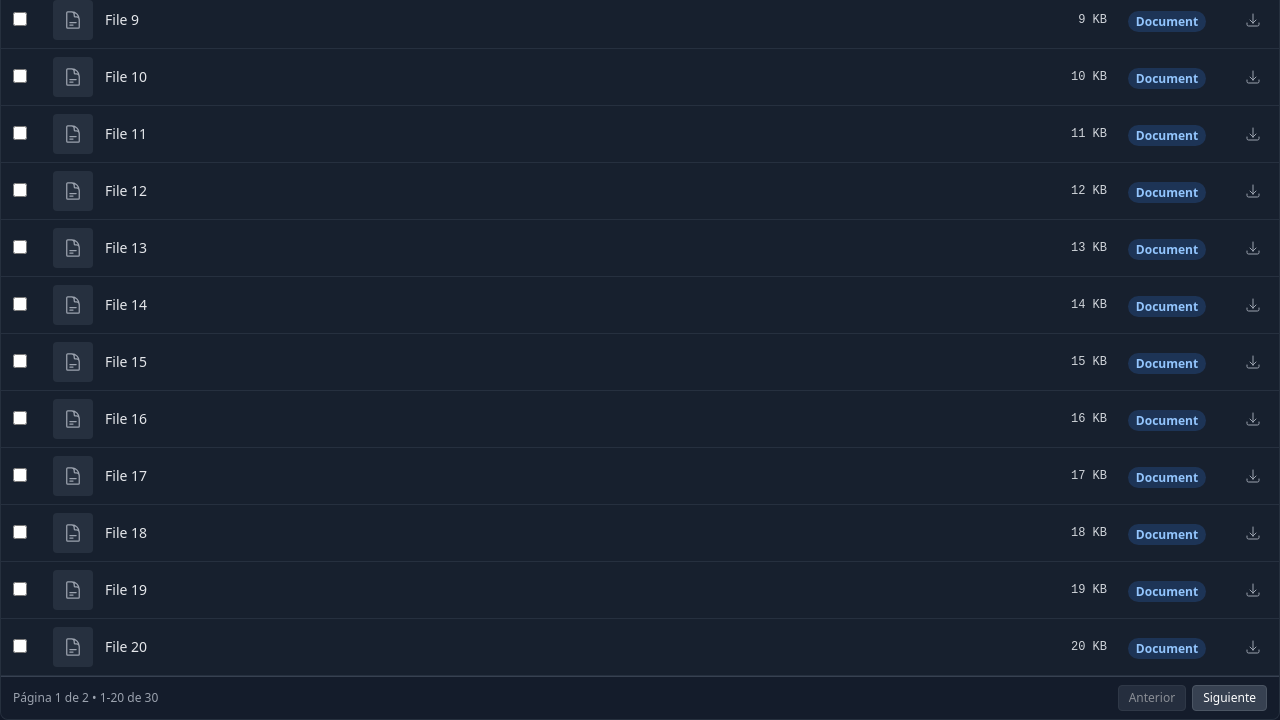
FileList › Pagination › should reset to page 1 when search changes
This screenshot has width=1280, height=720.
(page scrolled)
Click the button "Siguiente" at (1230, 698), box [1192, 685, 1267, 711]
(page scrolled)
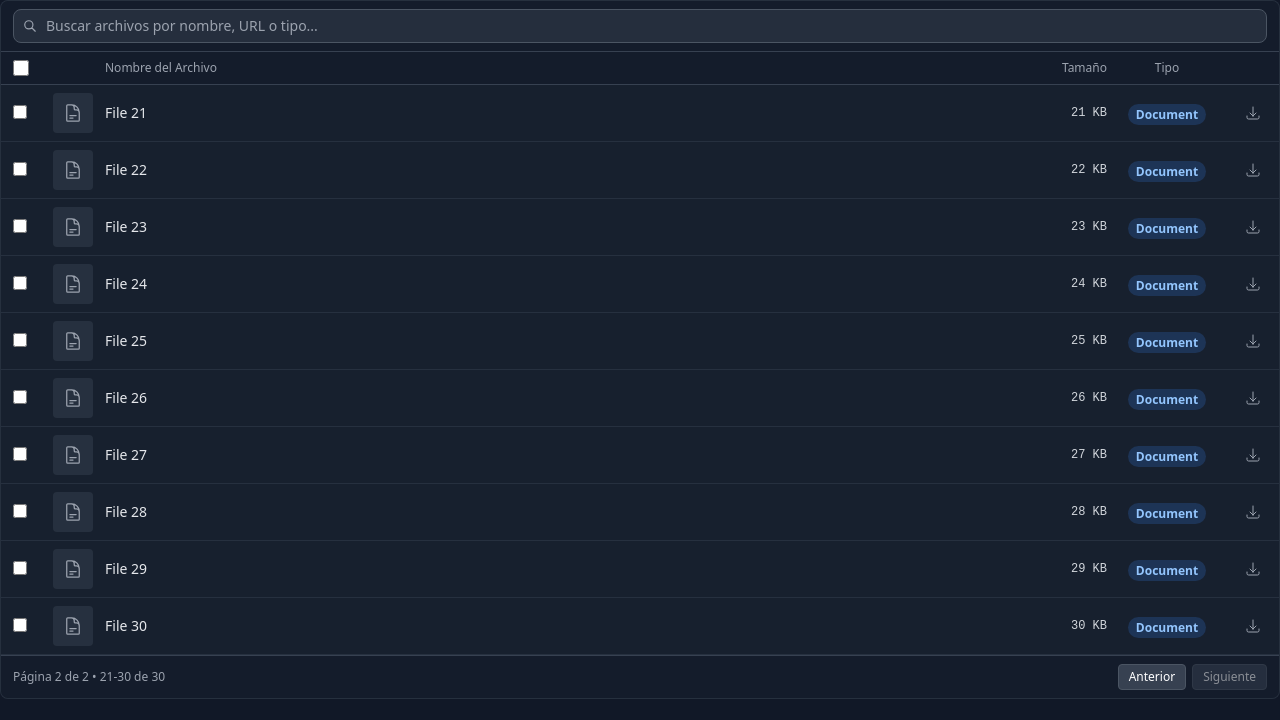
Type "File" into the field with placeholder "Buscar archivos por nombre, URL o tipo..." at (640, 26), box [13, 9, 1267, 43]
(page scrolled)
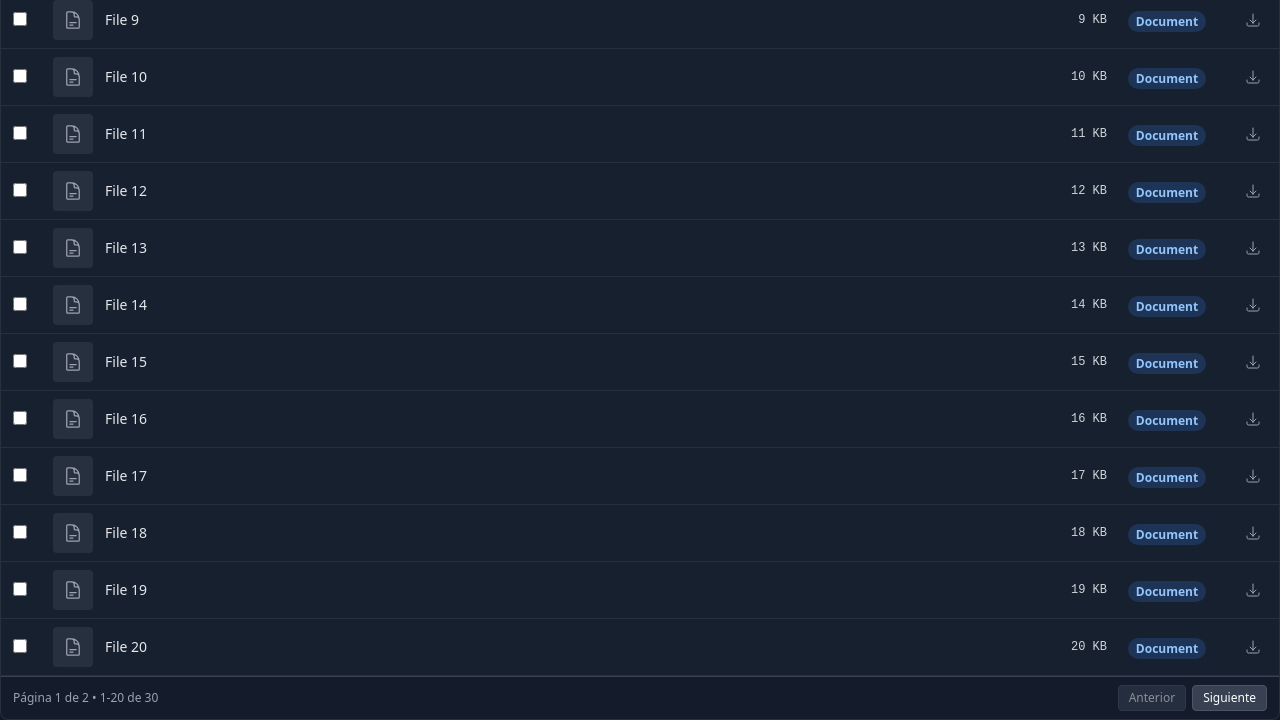
Expected: the text "Página 1 de 2 • 1-20 de 30" is shown, [13, 690, 158, 706]
